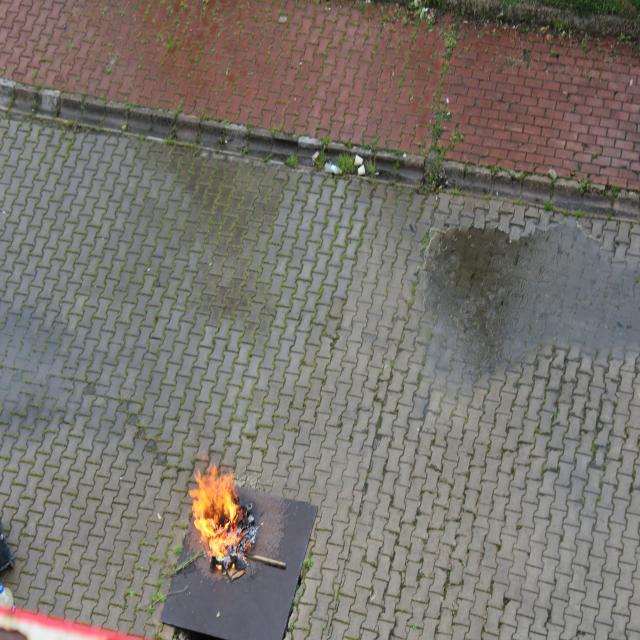fire: (186, 458, 260, 580)
